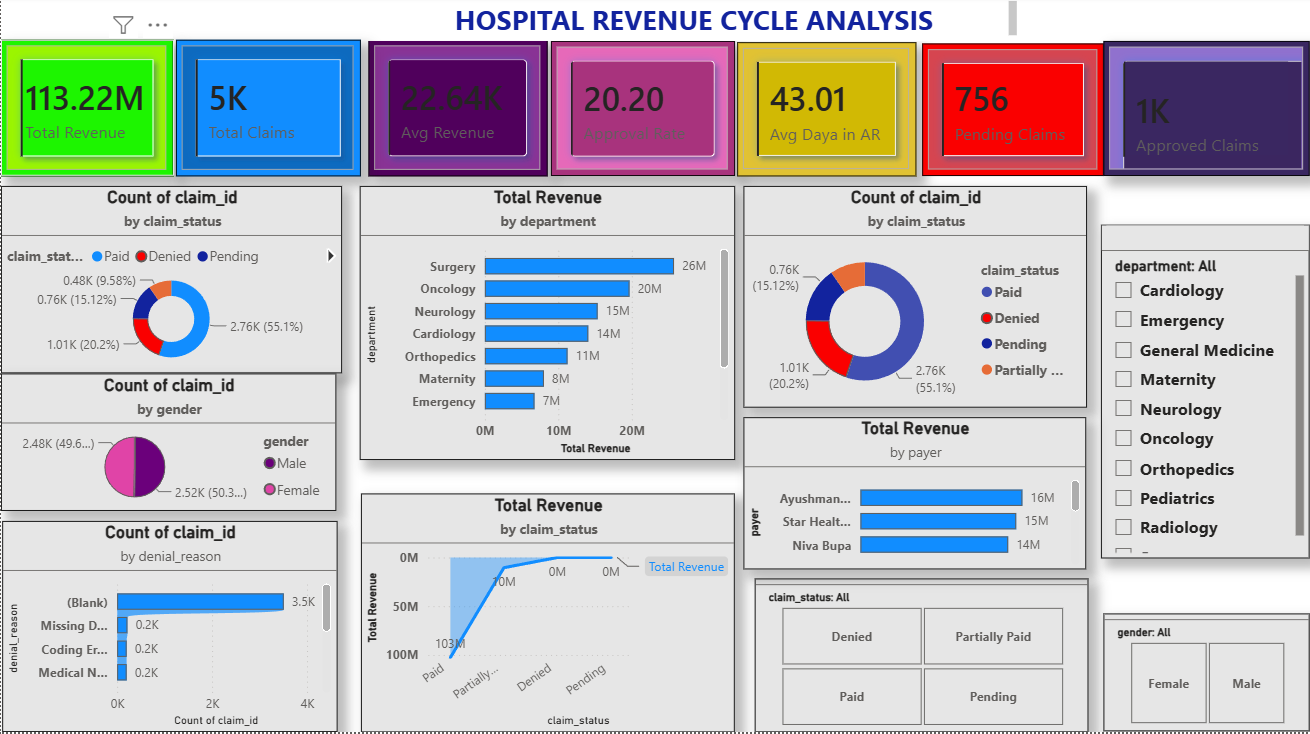

This screenshot's page, from the dashboard's own definition file:
{"tool":"powerbi","page":{"name":"Executice dashboard","canvas":[1280,720],"ordinal":0},"visuals":[{"type":"cardVisual","fields":{"Data":["hospital revenue.Avg Revenue"]},"box":[359.5,42.8,174.9,133.3],"z":0},{"type":"cardVisual","fields":{"Data":["hospital revenue.Approval Rate"]},"box":[538,44,179.8,132.1],"z":1000},{"type":"cardVisual","fields":{"Data":["hospital revenue.Avg Daya in AR"]},"box":[720.2,45.2,174.9,130.8],"z":2000},{"type":"cardVisual","fields":{"Data":["hospital revenue.Pending Claims"]},"box":[901.2,46.5,177.3,129.6],"z":3000},{"type":"textbox","box":[329.5,0,669.7,44.4],"z":4000},{"type":"cardVisual","fields":{"Data":["hospital revenue.Total Revenue"]},"box":[0,42.8,168.8,133.3],"z":5000},{"type":"cardVisual","fields":{"Data":["hospital revenue.Total Claims"]},"box":[171.2,42.8,181,133.3],"z":6000},{"type":"donutChart","fields":{"Category":["hospital revenue.claim_status"],"Y":["CountNonNull(hospital revenue.claim_id)"]},"box":[0,185.9,333.8,183.4],"z":7000},{"type":"clusteredBarChart","fields":{"Category":["hospital revenue.department"],"Y":["hospital revenue.Total Revenue"]},"box":[351,185.9,366.8,267.8],"z":8000},{"type":"donutChart","fields":{"Category":["hospital revenue.claim_status"],"Y":["CountNonNull(hospital revenue.claim_id)"]},"box":[726.4,185.9,336.3,216.4],"z":9000},{"type":"pieChart","fields":{"Category":["hospital revenue.gender"],"Y":["CountNonNull(hospital revenue.claim_id)"]},"box":[0,369.3,327.7,134.5],"z":10000},{"type":"lineChart","fields":{"Y":["hospital revenue.Total Revenue"],"Category":["hospital revenue.claim_status"]},"box":[352.2,486.7,365.6,233.6],"z":11000},{"type":"slicer","title":"Department","fields":{"Values":["hospital revenue.department"]},"box":[1076.1,223.8,204.2,326.5],"z":12000},{"type":"slicer","fields":{"Values":["hospital revenue.claim_status"]},"box":[737.4,569.8,326.5,150.4],"z":13000},{"type":"slicer","fields":{"Values":["hospital revenue.gender"]},"box":[1078.5,604.1,201.8,114.9],"z":14000},{"type":"barChart","fields":{"Category":["hospital revenue.denial_reason"],"Y":["CountNonNull(hospital revenue.claim_id)"]},"box":[1.2,513.6,327.7,206.7],"z":14001},{"type":"clusteredBarChart","fields":{"Category":["hospital revenue.payer"],"Y":["hospital revenue.Total Revenue"]},"box":[726.4,412.1,335.1,149.2],"z":14002},{"type":"cardVisual","fields":{"Data":["hospital revenue.Approved Claims"]},"box":[1078.5,44,201.8,132.1],"z":14003}]}

Visuals, with their boxes in screenshot pixels (x1, y1, x2, y2), scaled from the page's 1280x720 canvas onto the 1310x734 screenshot:
cardVisual - hospital revenue.Avg Revenue: (368,44,547,180)
cardVisual - hospital revenue.Approval Rate: (551,45,735,180)
cardVisual - hospital revenue.Avg Daya in AR: (737,46,916,179)
cardVisual - hospital revenue.Pending Claims: (922,47,1104,180)
textbox: (337,0,1023,45)
cardVisual - hospital revenue.Total Revenue: (0,44,173,180)
cardVisual - hospital revenue.Total Claims: (175,44,360,180)
donutChart - hospital revenue.claim_status x CountNonNull(hospital revenue.claim_id): (0,190,342,376)
clusteredBarChart - hospital revenue.department x hospital revenue.Total Revenue: (359,190,735,463)
donutChart - hospital revenue.claim_status x CountNonNull(hospital revenue.claim_id): (743,190,1088,410)
pieChart - hospital revenue.gender x CountNonNull(hospital revenue.claim_id): (0,376,335,514)
lineChart - hospital revenue.Total Revenue x hospital revenue.claim_status: (360,496,735,733)
"Department" slicer: (1101,228,1309,561)
slicer - hospital revenue.claim_status: (755,581,1089,733)
slicer - hospital revenue.gender: (1104,616,1309,733)
barChart - hospital revenue.denial_reason x CountNonNull(hospital revenue.claim_id): (1,524,337,733)
clusteredBarChart - hospital revenue.payer x hospital revenue.Total Revenue: (743,420,1086,572)
cardVisual - hospital revenue.Approved Claims: (1104,45,1309,180)
